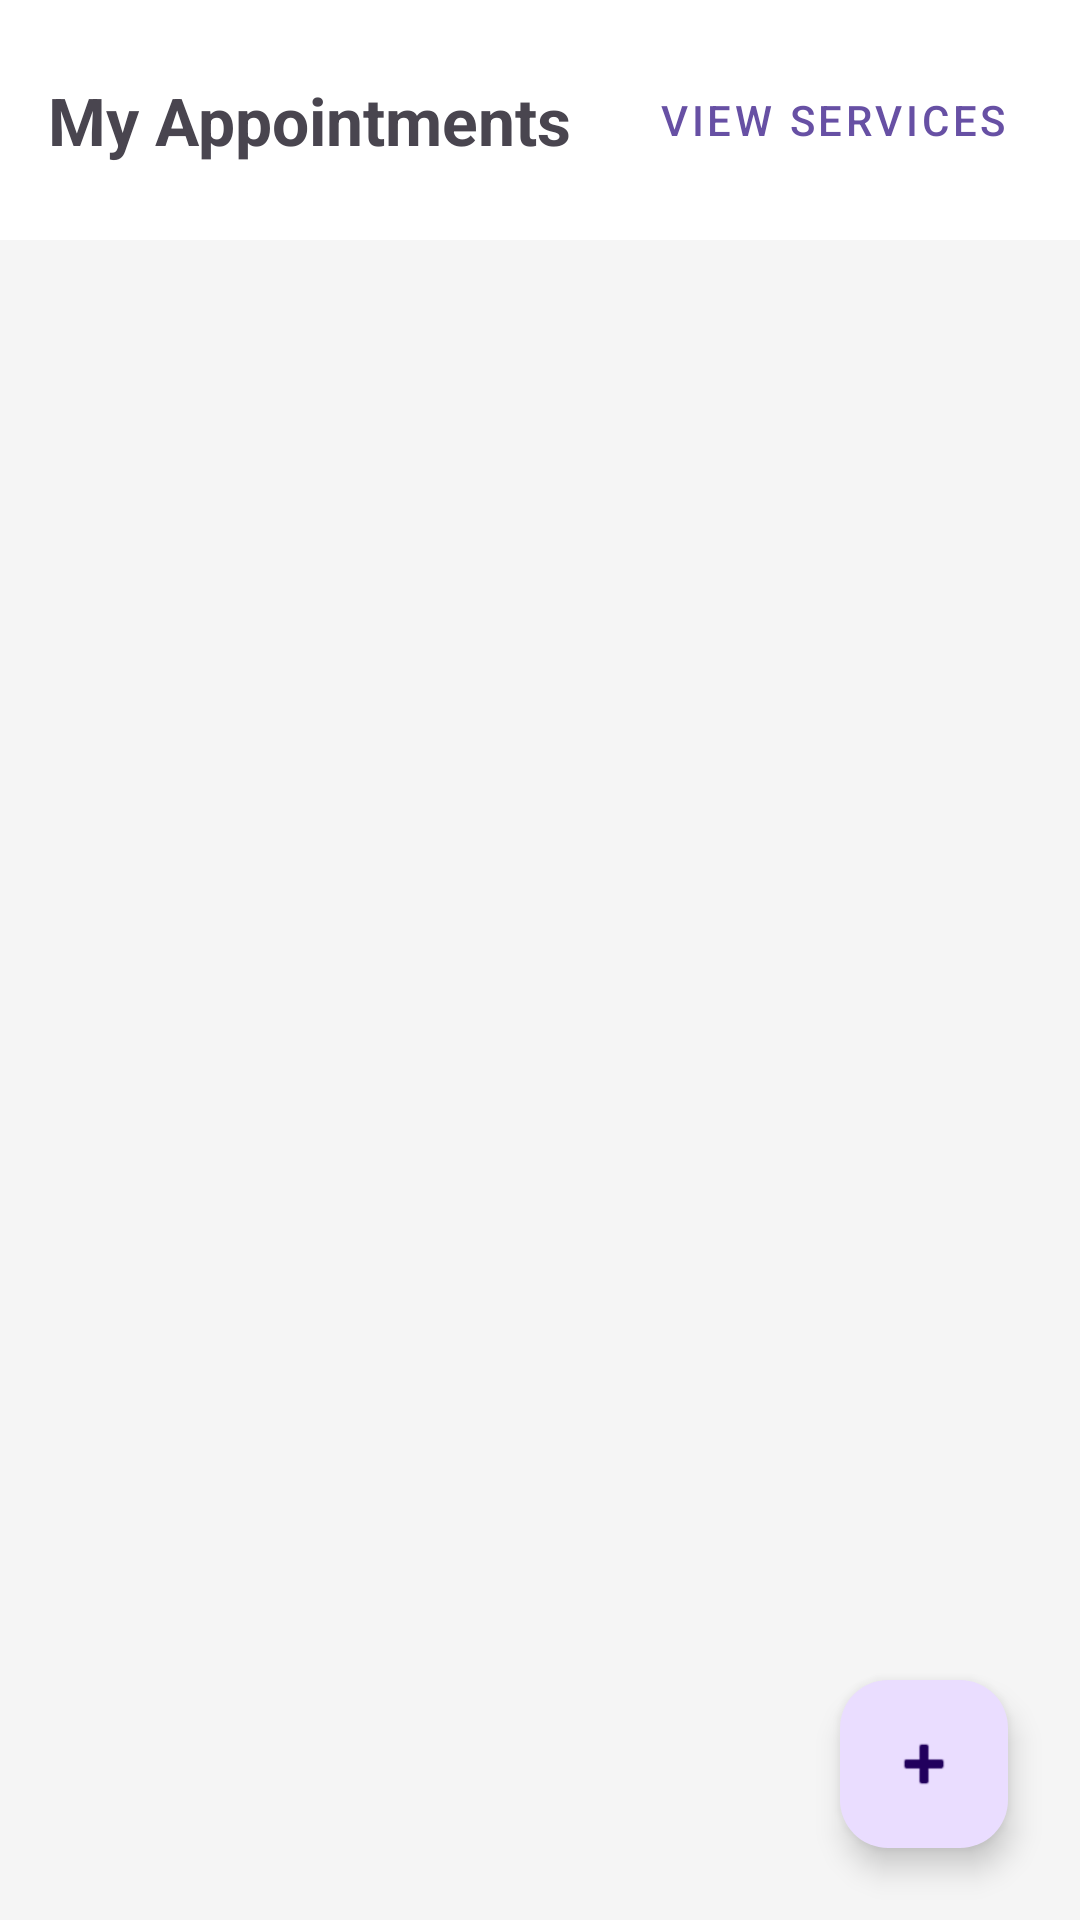

Icons on this 1080px x 1920px Android screen, each with the point to tap as [x,y]:
Book Appointment: [924,1764]
